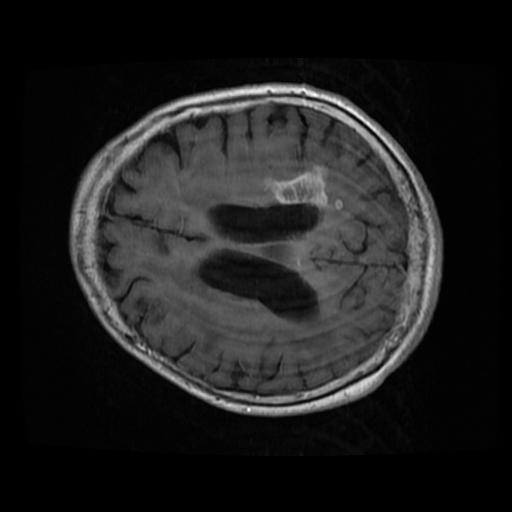glioma: (258, 164, 342, 211)
